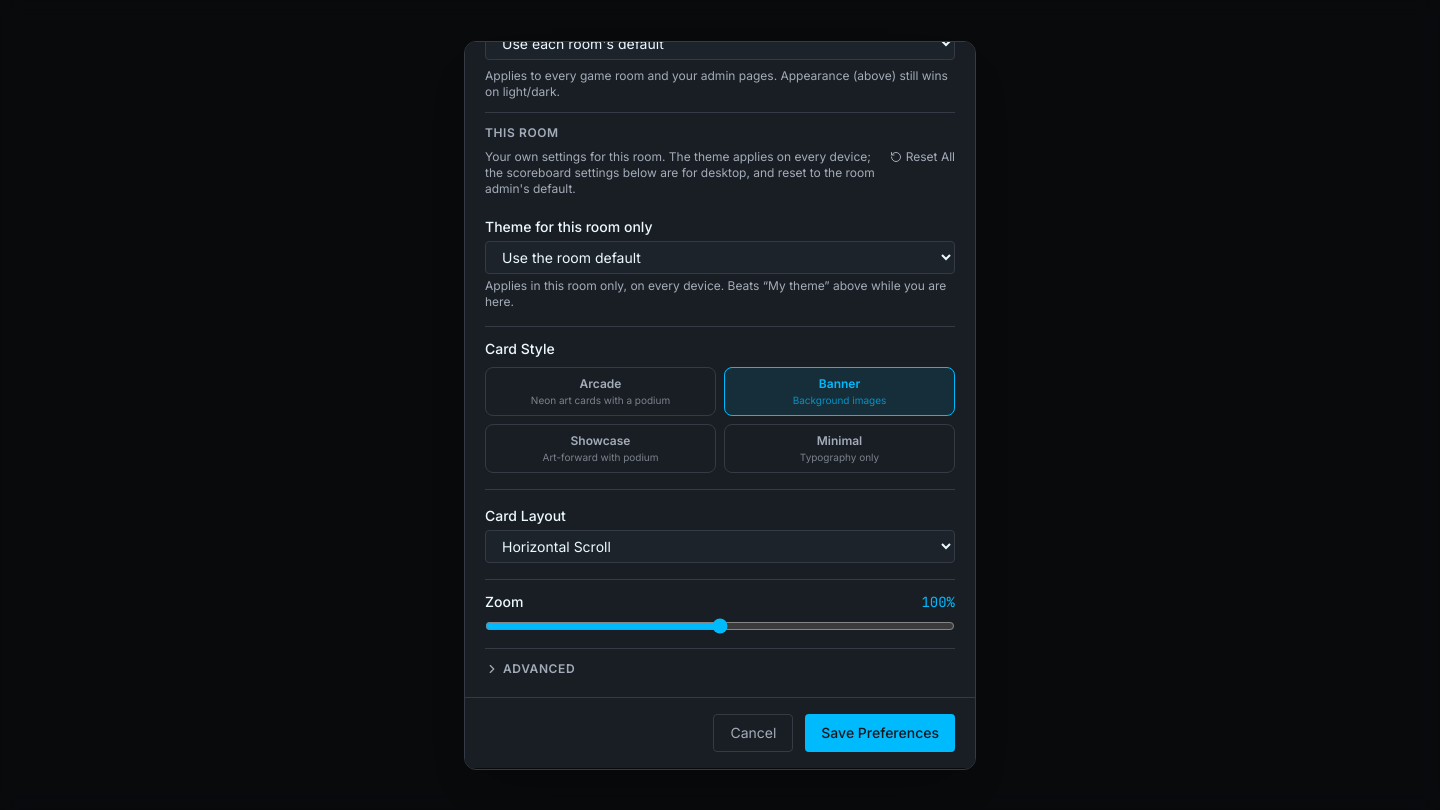
ScoreboardPreferencesModal — P3 tiering › hides Rankings Position (with a note) when the rankings style is ticker
The image size is (1440, 810).
(page scrolled)
Check: the text "Card Style" is shown, box [485, 338, 555, 358]
Click the button "Advanced".
click(539, 669)  # box [485, 657, 955, 681]
(page scrolled)
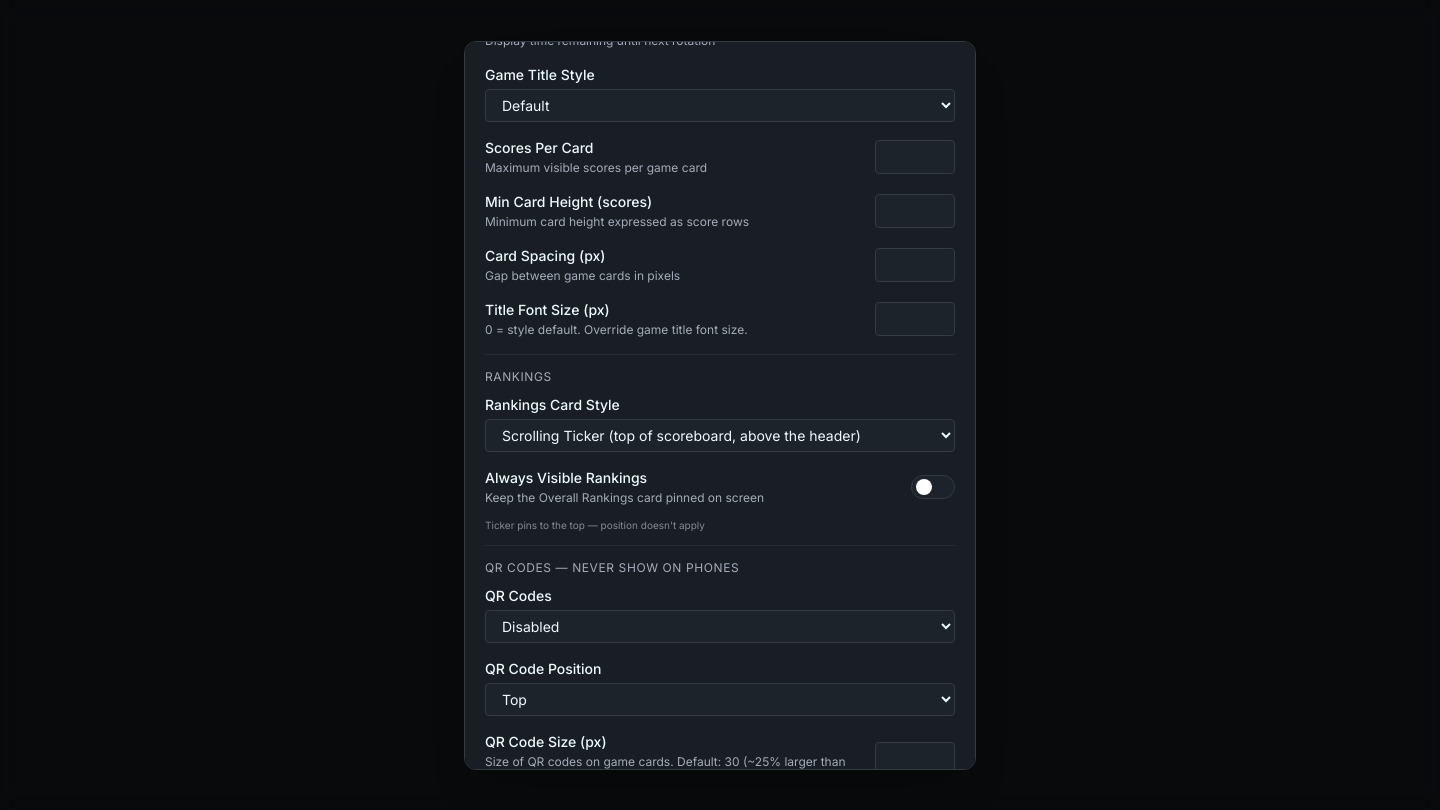
Check: the text "Ticker pins to the top — position doesn't apply" is shown, box [485, 519, 705, 531]
Check: the text "Rankings Card Style" is shown, box [485, 395, 620, 415]
